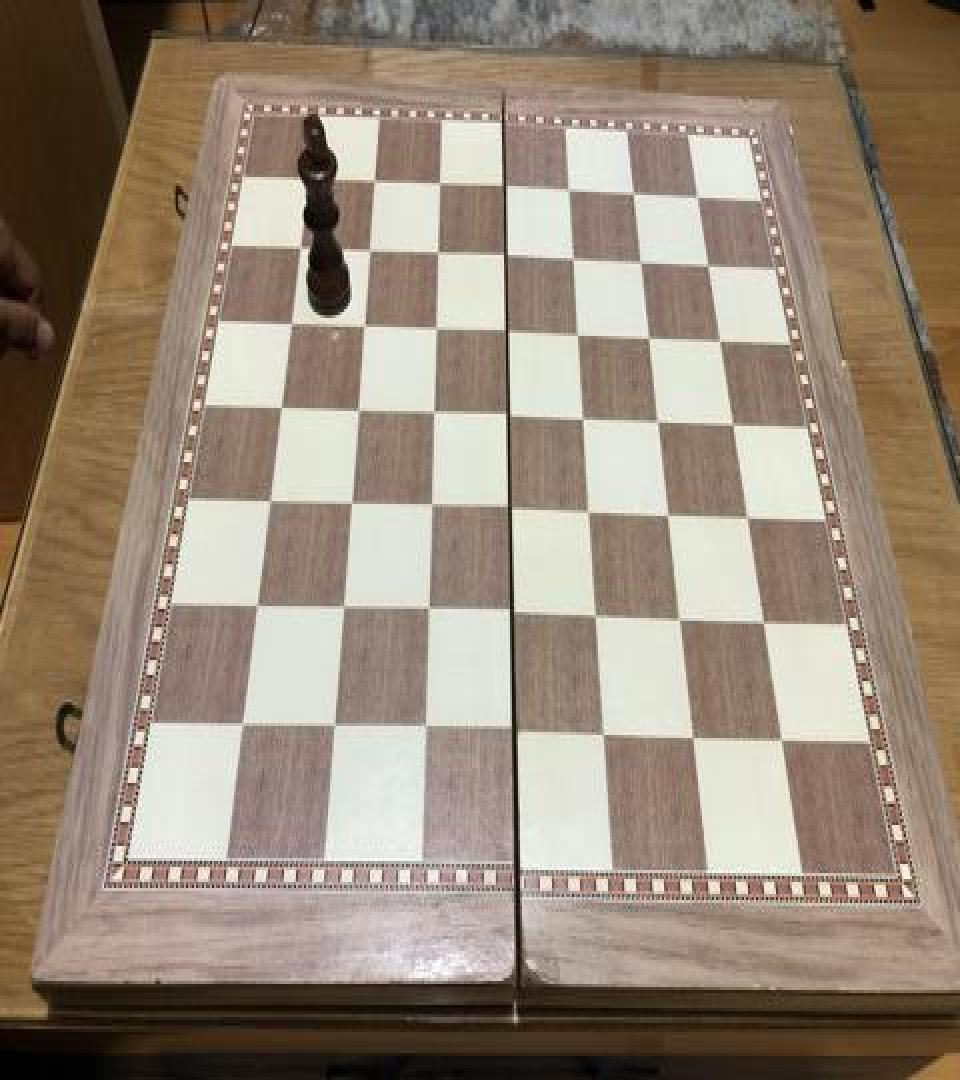xcorner: (669, 601, 693, 638), (416, 595, 440, 632), (688, 178, 712, 214), (623, 176, 647, 212), (558, 174, 582, 210), (493, 171, 517, 207), (428, 170, 452, 206), (363, 168, 387, 204), (297, 165, 321, 201), (698, 246, 722, 282), (631, 244, 655, 280), (563, 243, 587, 279), (494, 240, 518, 276), (426, 238, 450, 274), (358, 236, 382, 272), (289, 234, 313, 270), (710, 322, 734, 358), (639, 320, 663, 356), (567, 318, 591, 354), (496, 315, 520, 351), (424, 314, 448, 350), (352, 312, 376, 348), (280, 309, 304, 345), (723, 406, 747, 442), (648, 404, 672, 440), (573, 402, 597, 438), (497, 399, 521, 435), (421, 398, 445, 434), (346, 394, 370, 430), (269, 393, 293, 429), (737, 500, 761, 536), (658, 496, 682, 532), (579, 495, 603, 531), (499, 492, 523, 528), (419, 490, 443, 526), (338, 489, 362, 525), (258, 486, 282, 522), (754, 603, 778, 639), (585, 600, 609, 636), (501, 597, 525, 633), (330, 592, 354, 628), (245, 591, 269, 627), (772, 722, 796, 758), (682, 720, 706, 756), (593, 717, 617, 753), (503, 716, 527, 752), (412, 714, 436, 750), (321, 711, 345, 747), (230, 710, 254, 746)
